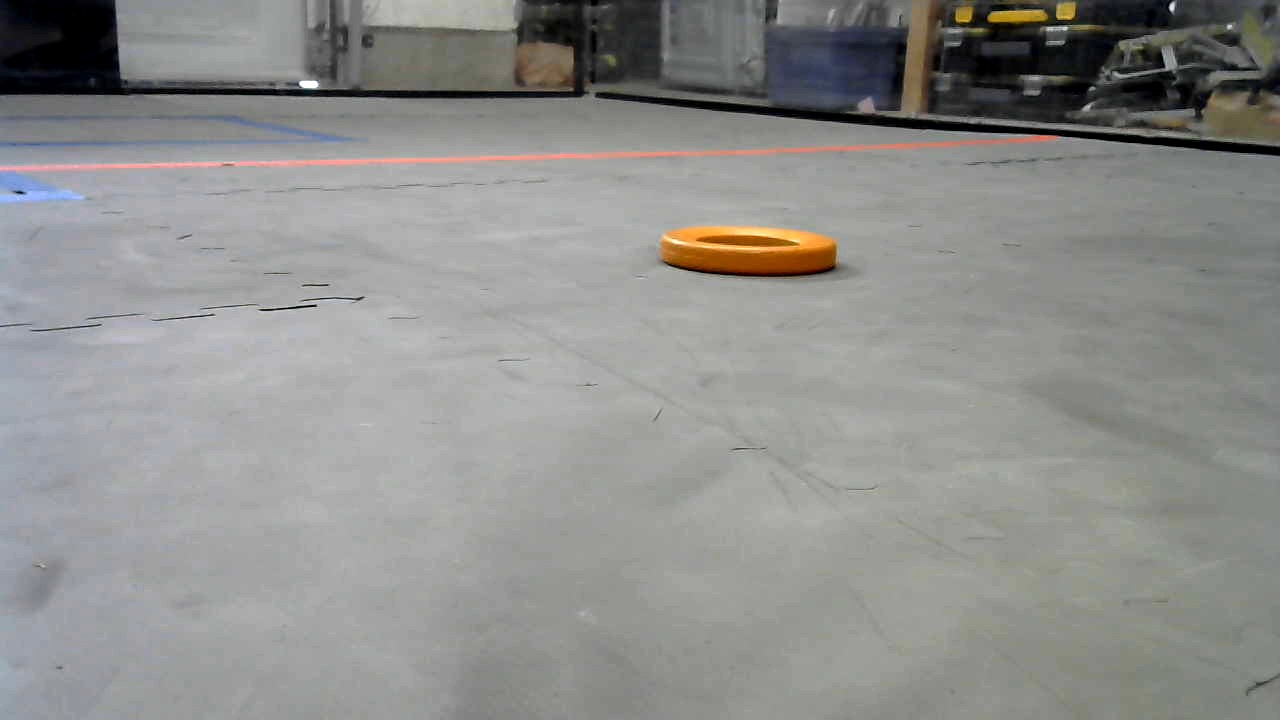OneStack: (660, 222, 839, 276)
